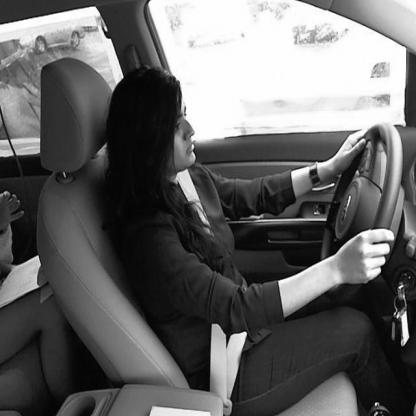seatbelt: (95, 52, 231, 332)
